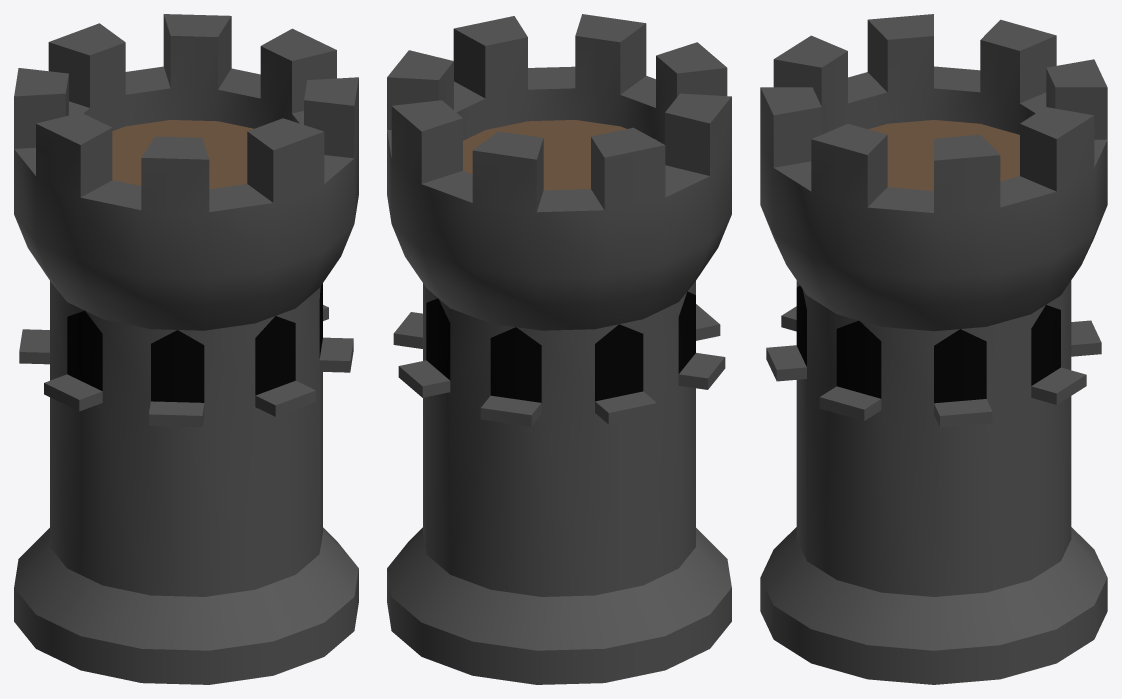
Rendered from tower.fbx.
3 views of the same model, side by side, from view 1: azimuth 30°, elevation 25°; view 2: azimuth 150°, elevation 25°; view 3: azimuth 270°, elevation 25° (orthographic).
Visible parts, largest first — view 1: tower; view 2: tower; view 3: tower.
Boxes of the visible parts, left/top/right/bottom form: tower: left=14, top=14, right=358, bottom=684; tower: left=387, top=14, right=731, bottom=684; tower: left=760, top=14, right=1107, bottom=684.
Bounding box in the file's own units: 600 × 1000 × 600.
